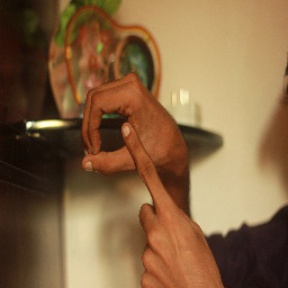Q: (74, 68, 203, 237)
